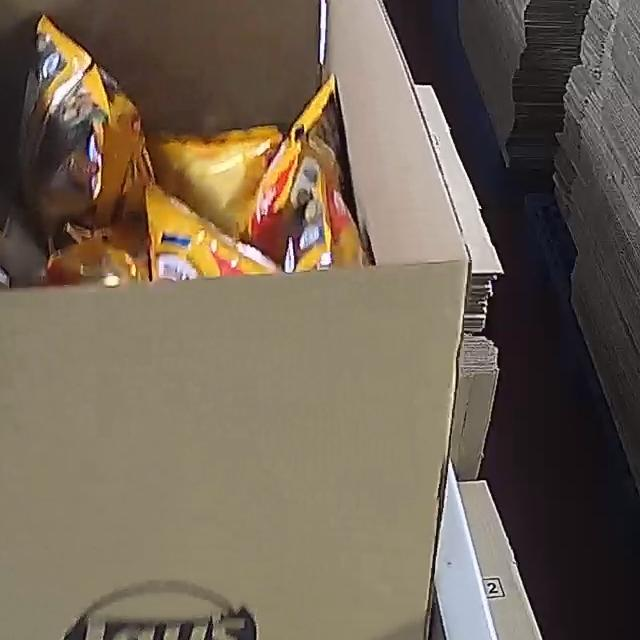cheese: (0, 12, 365, 289)
